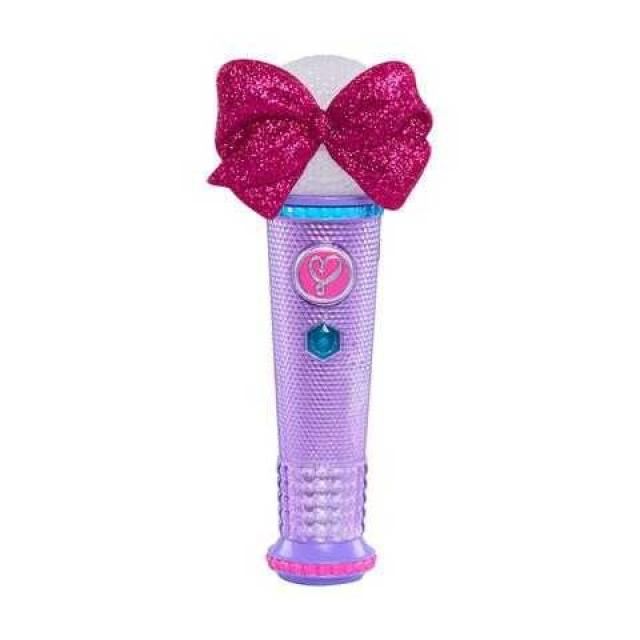microphone: (208, 65, 432, 595)
